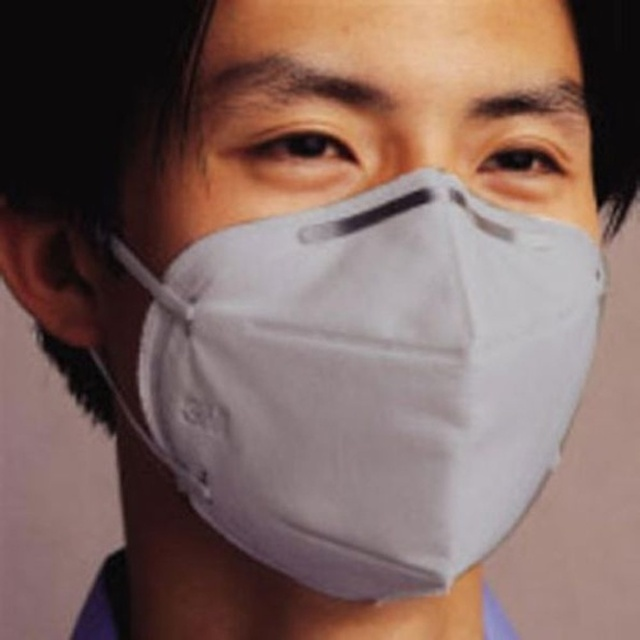mask: (131, 165, 612, 603)
person: (1, 1, 640, 640)
